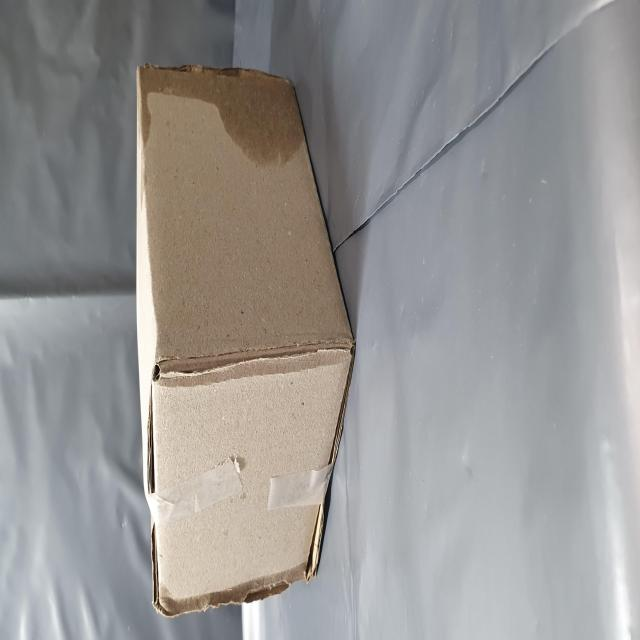wet: (256, 246, 322, 554)
